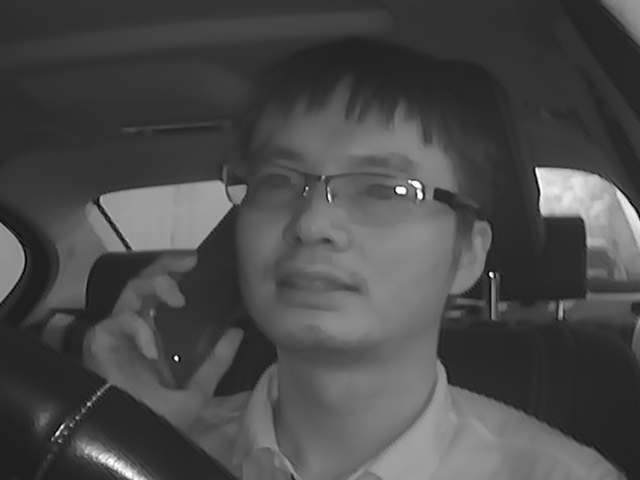hand: (92, 252, 217, 420)
